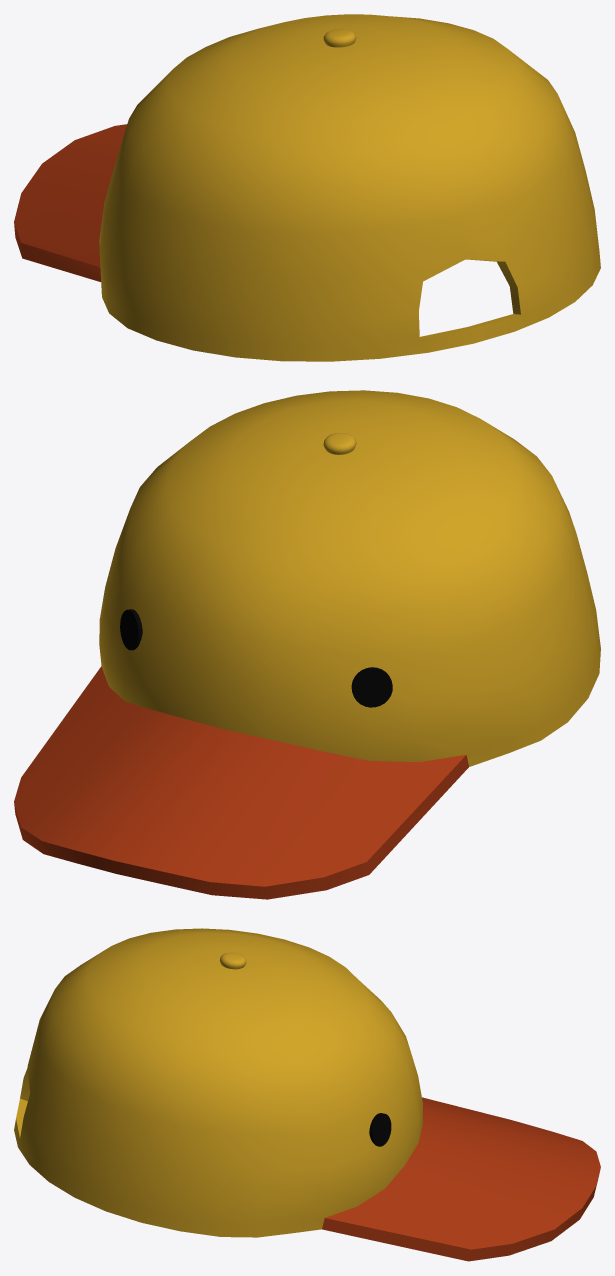
File: duckhat.obj
The picture shows the model from 3 angles, top to bottom: view 1: azimuth 30°, elevation 25°; view 2: azimuth 150°, elevation 25°; view 3: azimuth 270°, elevation 25°; orthographic projection. The views are drawn at different scales.
Visible parts, largest first — view 1: 0.Cap_Mesh; view 2: 0.Cap_Mesh; view 3: 0.Cap_Mesh.
Boxes of the visible parts, x1=… form: 0.Cap_Mesh: x1=14, y1=14, x2=600, y2=361; 0.Cap_Mesh: x1=14, y1=390, x2=600, y2=899; 0.Cap_Mesh: x1=14, y1=928, x2=600, y2=1261.
Bounding box in the file's own units: 2.06 × 1.3 × 2.91.
